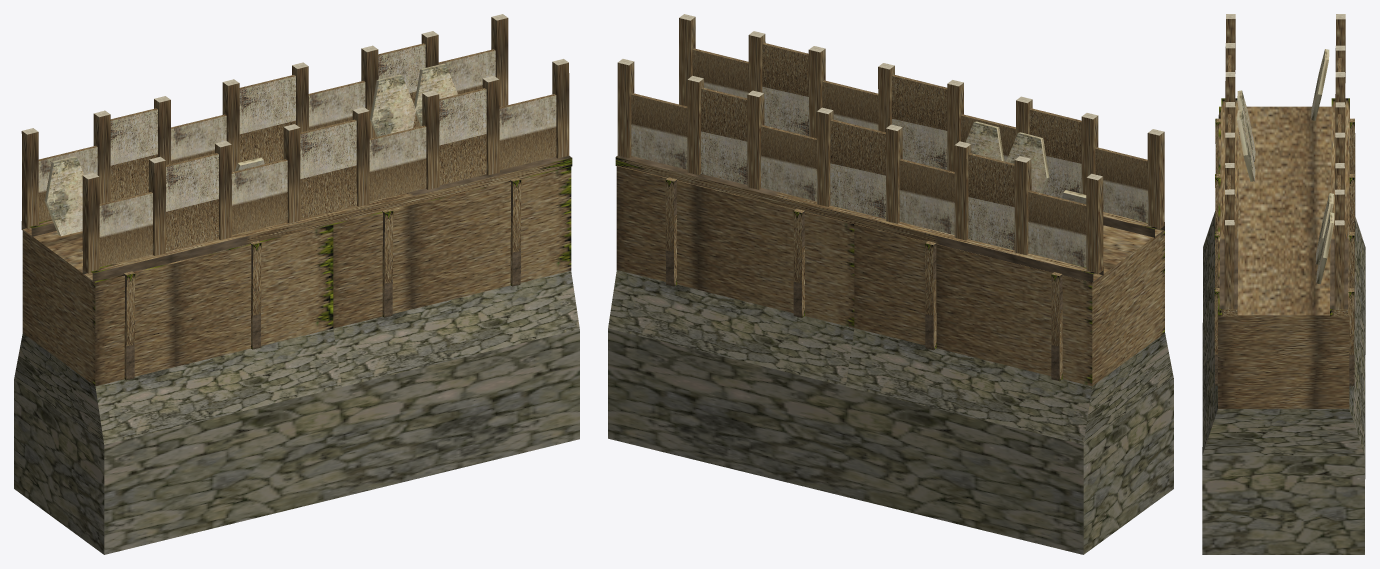
Rendered from wall_med.dae.
The picture shows the model from 3 angles, left to right: view 1: azimuth 30°, elevation 25°; view 2: azimuth 150°, elevation 25°; view 3: azimuth 270°, elevation 25°; orthographic projection. The views are drawn at different scales.
Visible parts, largest first — view 1: wall_med; view 2: wall_med; view 3: wall_med.
Boxes of the visible parts, x1,y1,x2,y2 form: wall_med: (14, 14, 579, 554); wall_med: (608, 14, 1173, 554); wall_med: (1202, 14, 1365, 554).
Bounding box in the file's own units: 26.98 × 8.8 × 19.67.
